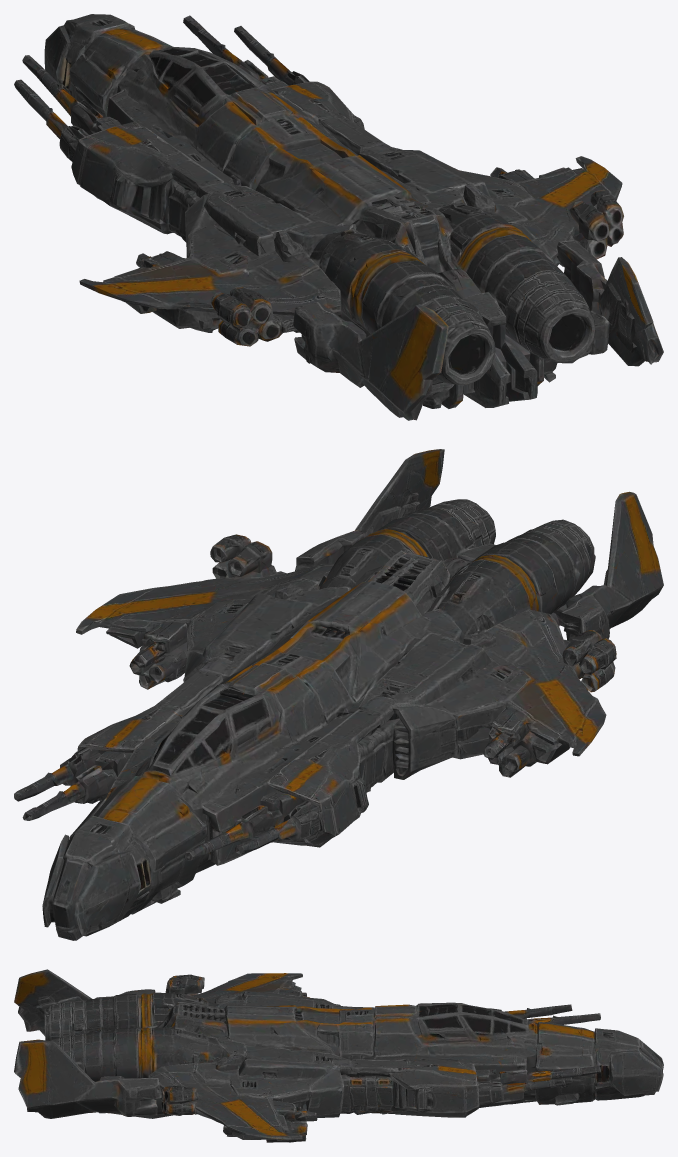
The model's file is enemy-merc.glb.
3 renders of one model, top to bottom at view 1: azimuth 30°, elevation 25°; view 2: azimuth 150°, elevation 25°; view 3: azimuth 270°, elevation 25°, orthographic. The views are drawn at different scales.
Parts seen in each view (by area): view 1: enemy-merc-rumpf; view 2: enemy-merc-rumpf; view 3: enemy-merc-rumpf.
Part boxes in pixels (x1,y1,x2,y2): enemy-merc-rumpf: (14,14,663,420); enemy-merc-rumpf: (14,449,663,940); enemy-merc-rumpf: (14,969,663,1142).
Size of the model in its own units: 1.21 by 0.3499 by 2.
Materials: 1 (1 with a texture image).
